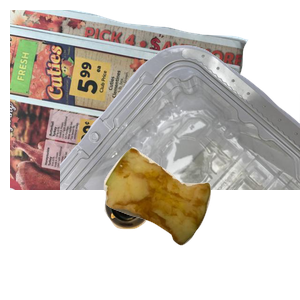glass: (102, 181, 246, 300)
paper: (10, 10, 250, 190)
plastic: (60, 43, 300, 223)
trash: (101, 145, 300, 300)
